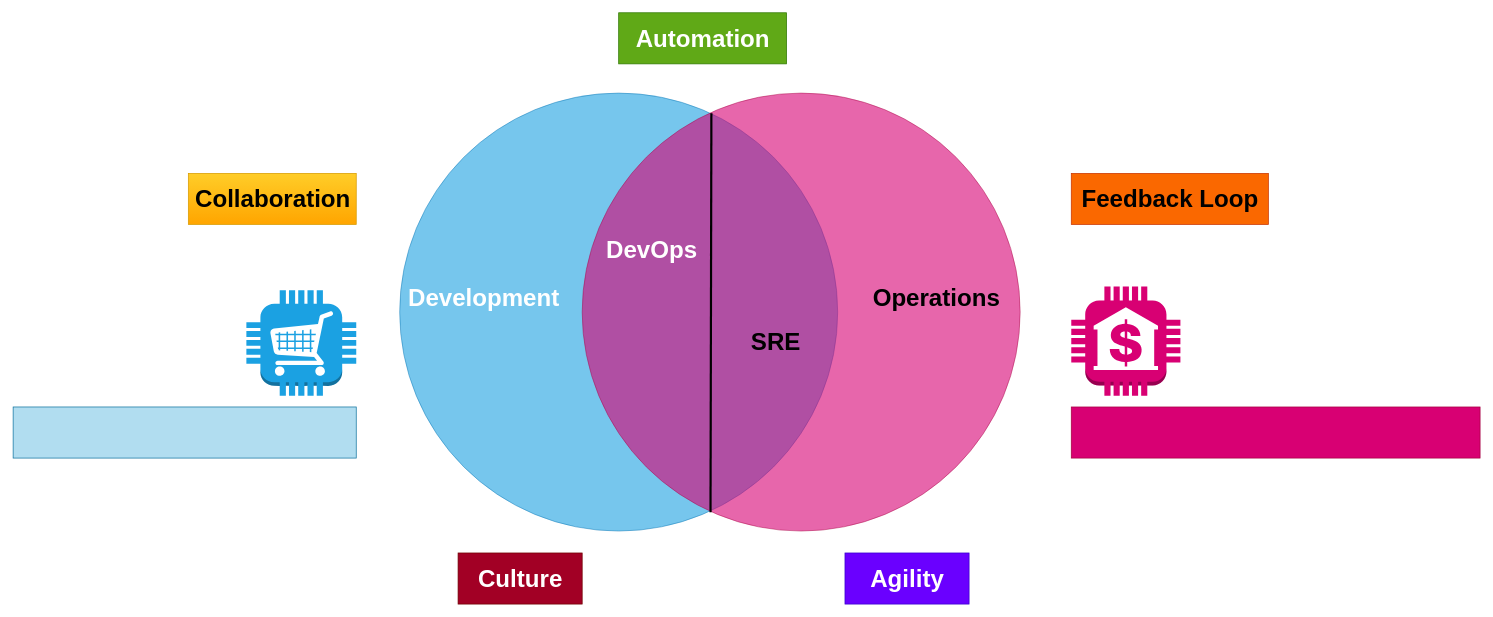
Image size: 1493x617. Some labels were removed from this diagram. Here are the shapes that lost their labels. From the top down, the centre of each, then its label:
At [184,432]: "DEVs want to add more features".
At [1275,432]: "OPs want to make them work perfectly".
